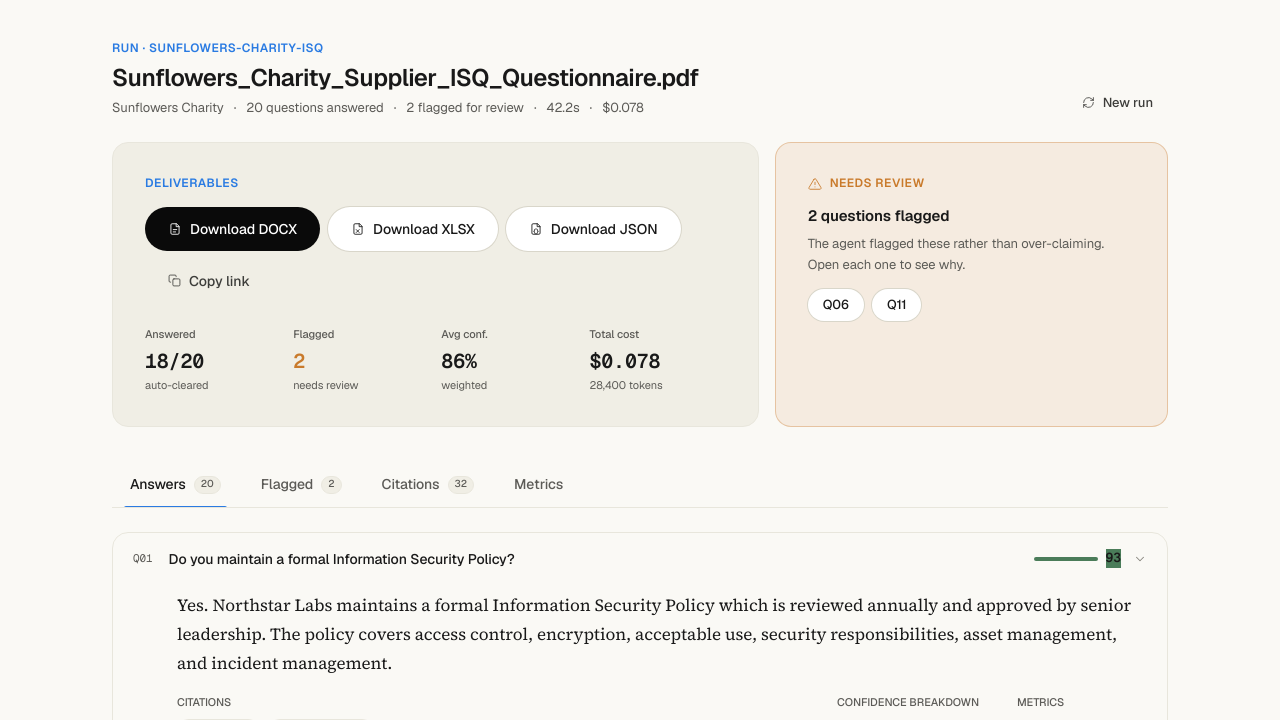
Scenario: ResultsPage — collapsible answers › collapses an answer that starts expanded
This screenshot has width=1280, height=720.
Check: the text "Run · sunflowers-charity-isq" is shown, box [112,40,324,56]
Check: the text "approved by senior leadership" is shown, box [177,593,1131,675]
Click the button "Q01 Do you maintain a formal Information Security Policy? 93": x=342, y=558 [113,532,1167,585]
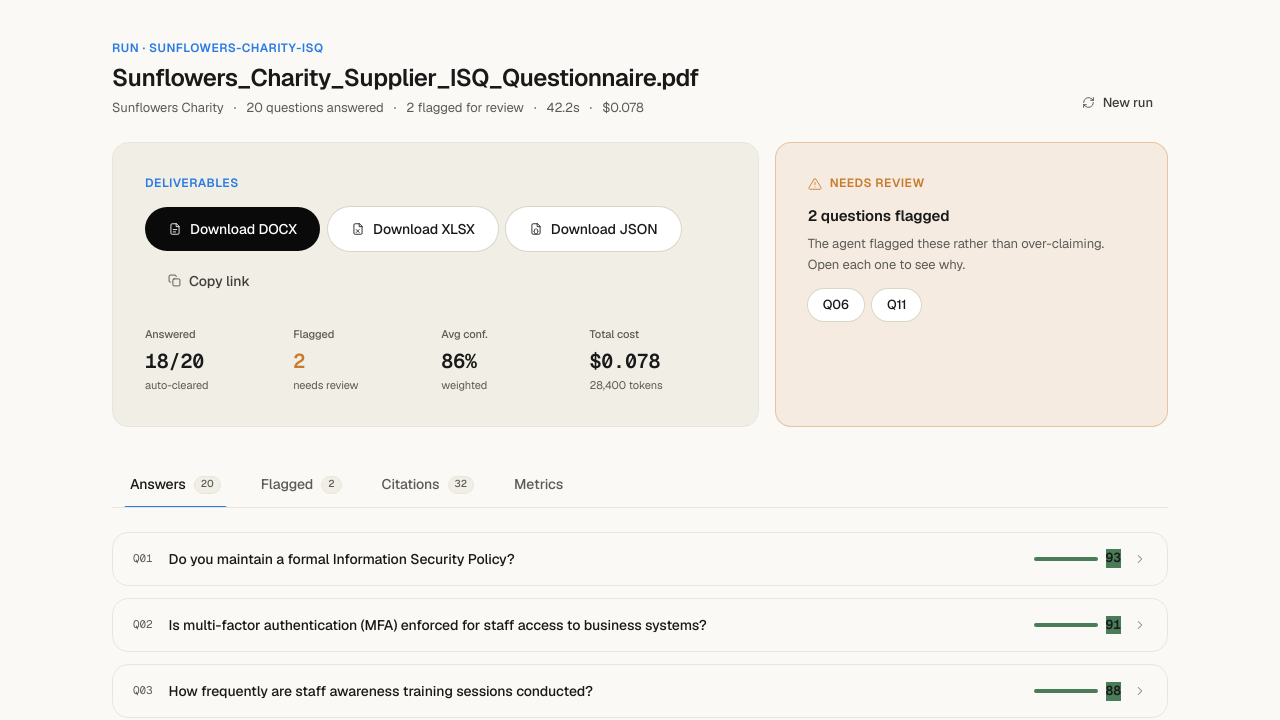
Check: the text "approved by senior leadership" is gone
